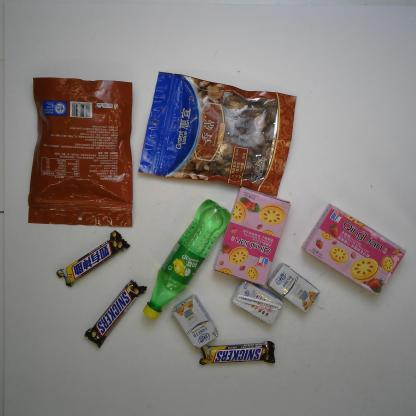Chocolate: (83, 274, 150, 353), (52, 228, 132, 285), (197, 338, 278, 370)
Dessert: (300, 204, 408, 300), (213, 184, 295, 288)
Dried Food: (138, 66, 300, 199), (23, 73, 139, 234)
Drink: (140, 194, 232, 320)
Milk: (169, 292, 220, 353), (265, 262, 323, 314), (230, 279, 286, 326)
